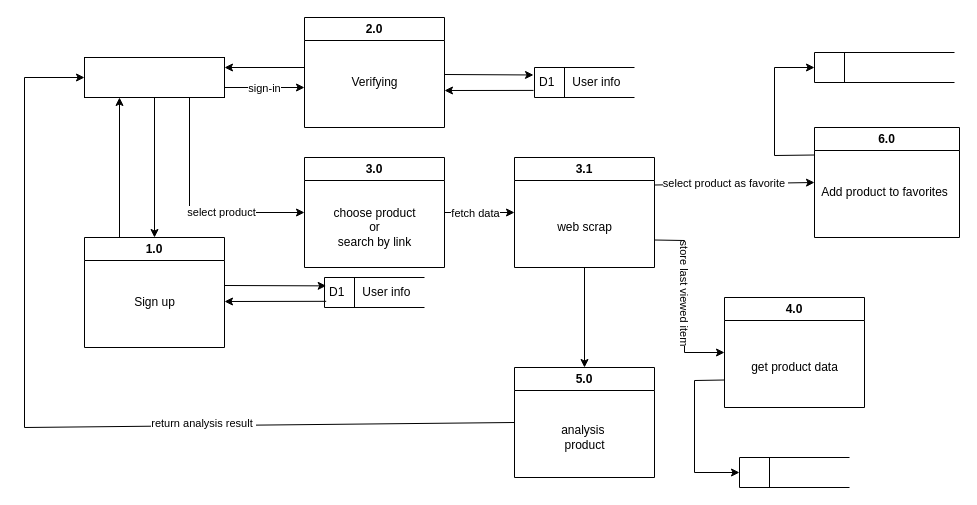
Some shapes in this 977 by 505 pixel diagram are drawn without their labels. Here are the shapes that lost their labels. From the top down, the centre of each, then its label:
At [154,77]: "User".
At [884,67]: "D3 Favorite Products".
At [794,472]: "D2 product Data".
